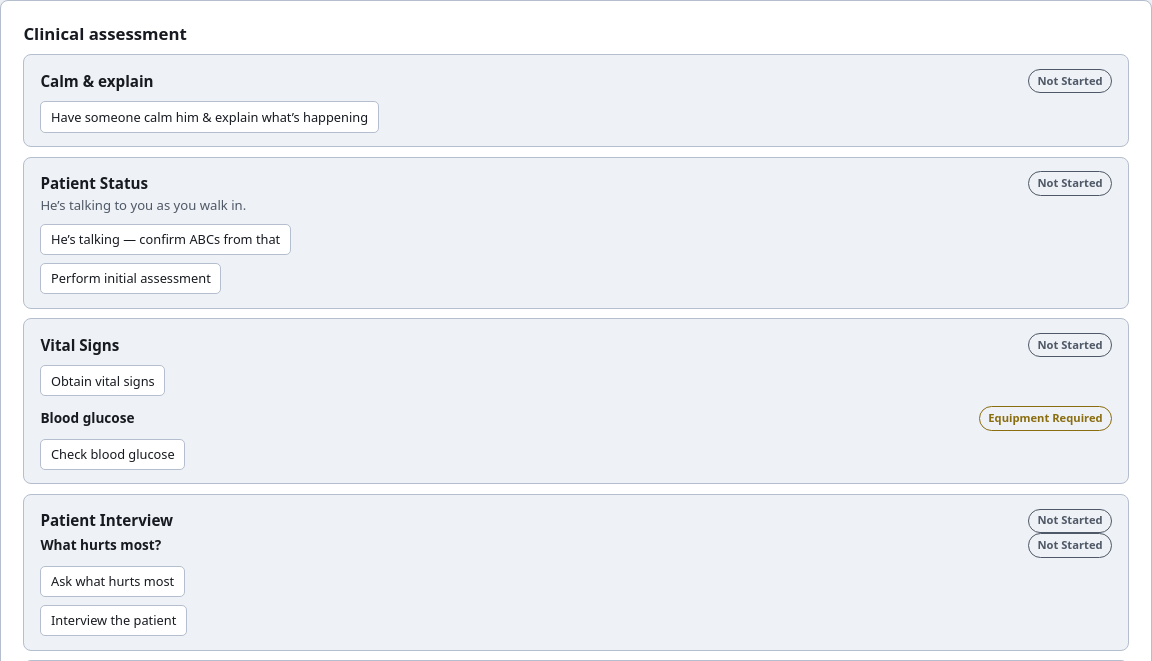
Test: ClinicalPanel — lock & hidden findings (§19) › initial assessment reveals only primary findings, not interview history
Click the button "Perform initial assessment": click(131, 278) [40,263,221,294]
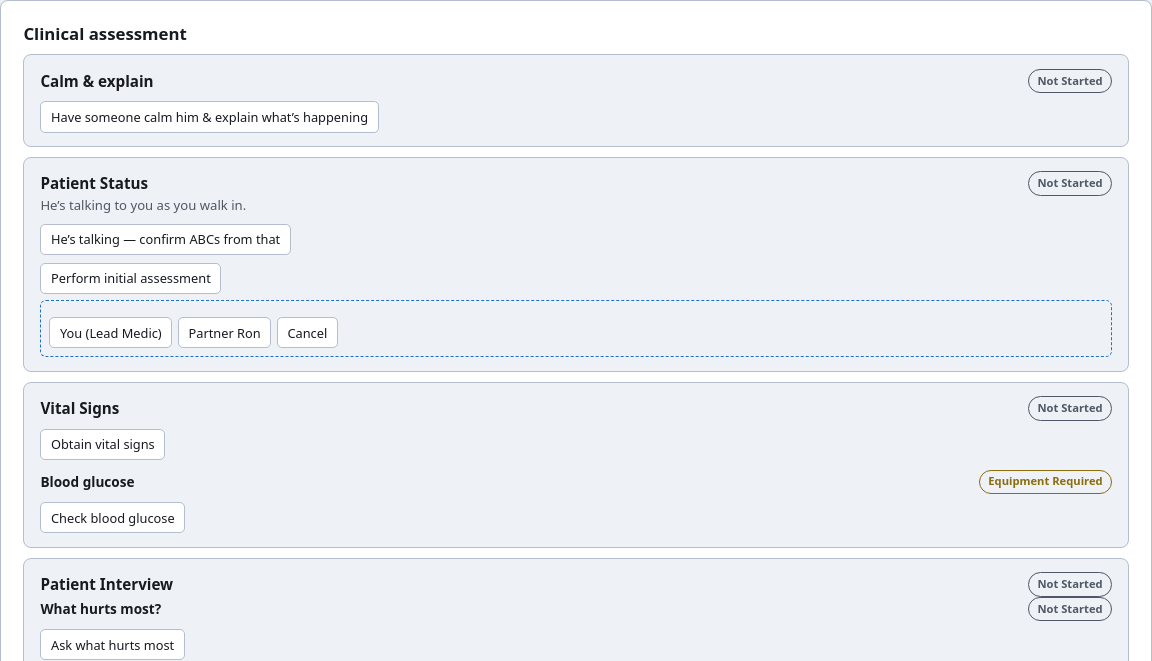
Click the button "Partner Ron": click(225, 333) [178,317,271,348]
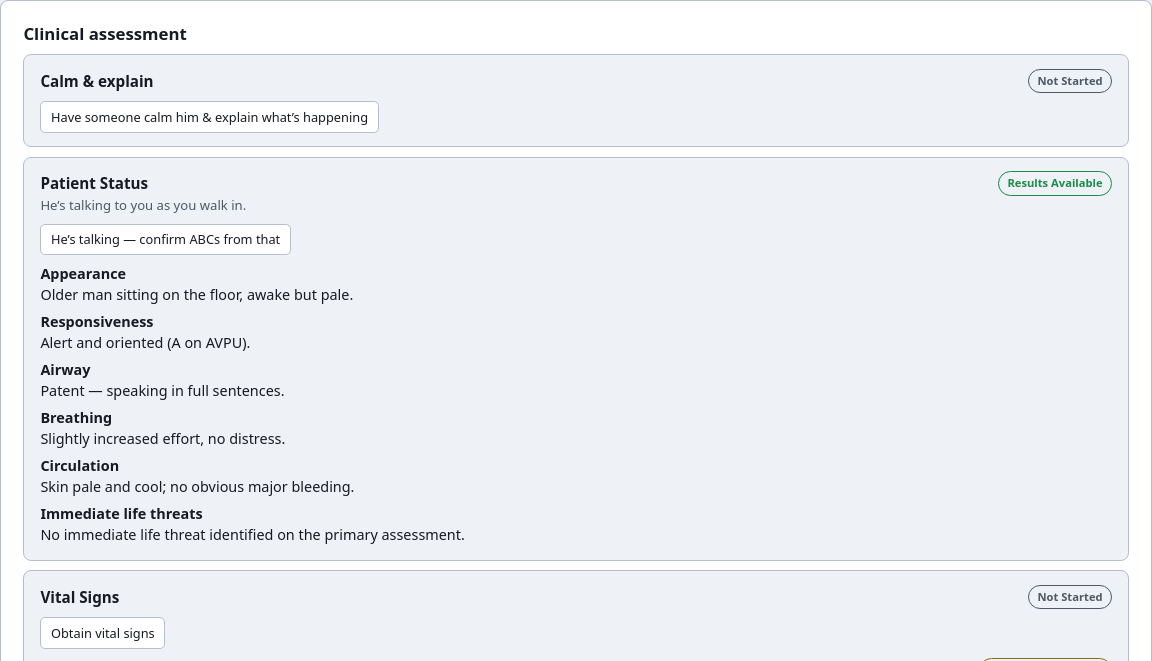
expect the text "Appearance Older man sitting on the floor, awake but pale." is shown: met, box [40,264,353,304]
